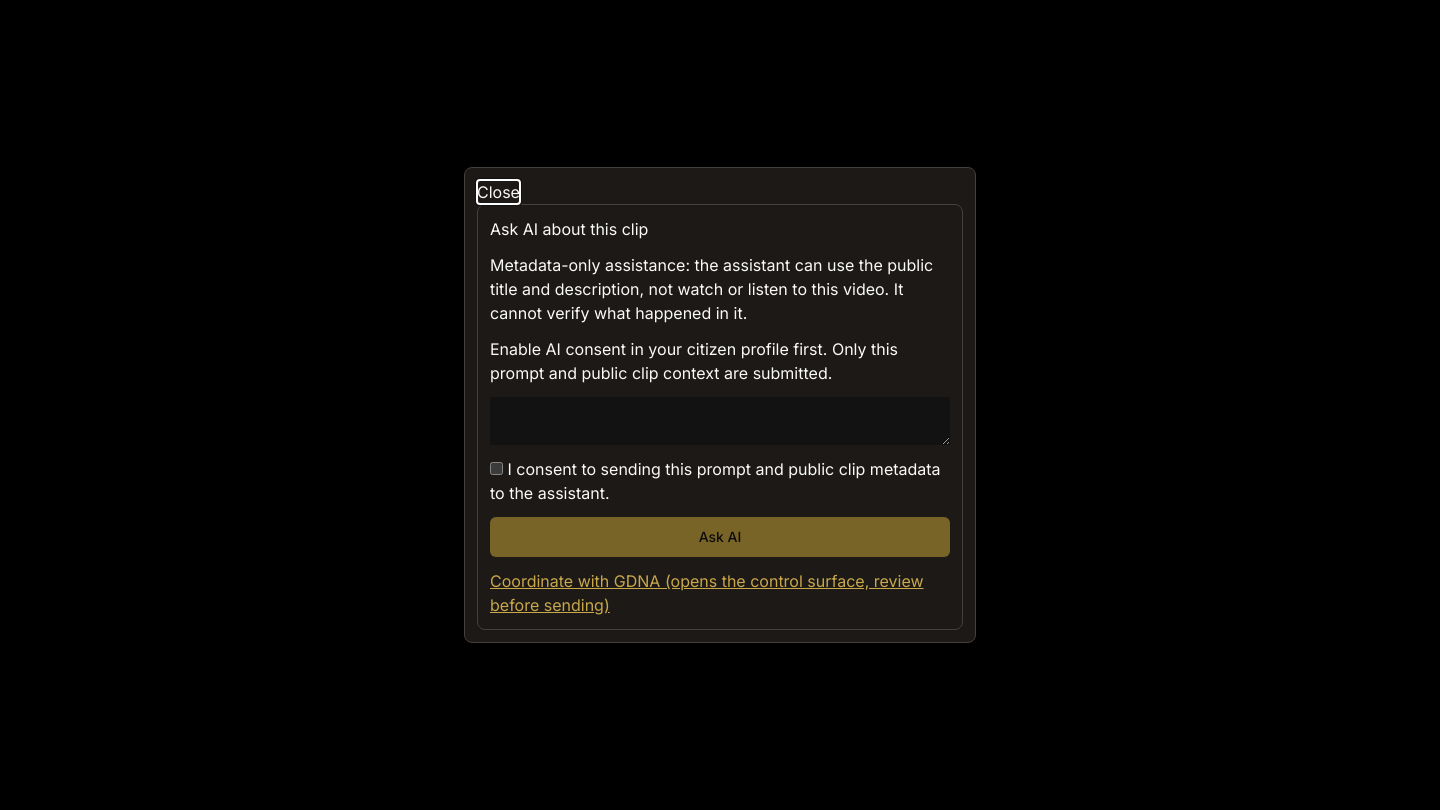
Test: lazy clip citizen panel › requires explicit prompt and consent and sends only scoped clip context
expect the button with test id "clip-ai-submit" is disabled: met, box left=490, top=517, right=950, bottom=557
Type "What does the title say?" into the text box with test id "clip-ai-prompt". click: (720, 421)
box: left=490, top=397, right=950, bottom=445
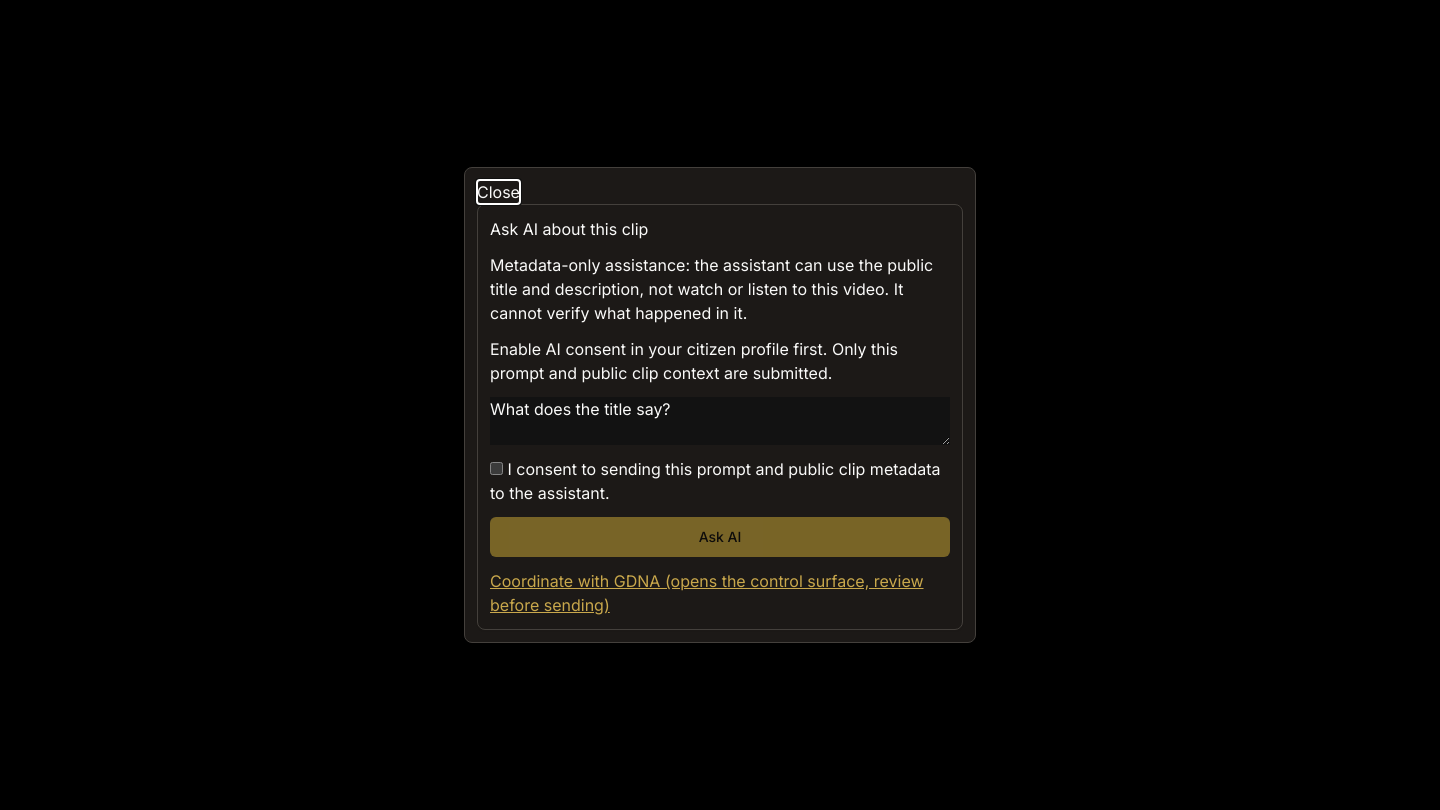
expect the button with test id "clip-ai-submit" is disabled: met, box left=490, top=517, right=950, bottom=557
Click the checkbox with test id "clip-ai-consent". click: (496, 468)
box: left=490, top=462, right=503, bottom=475
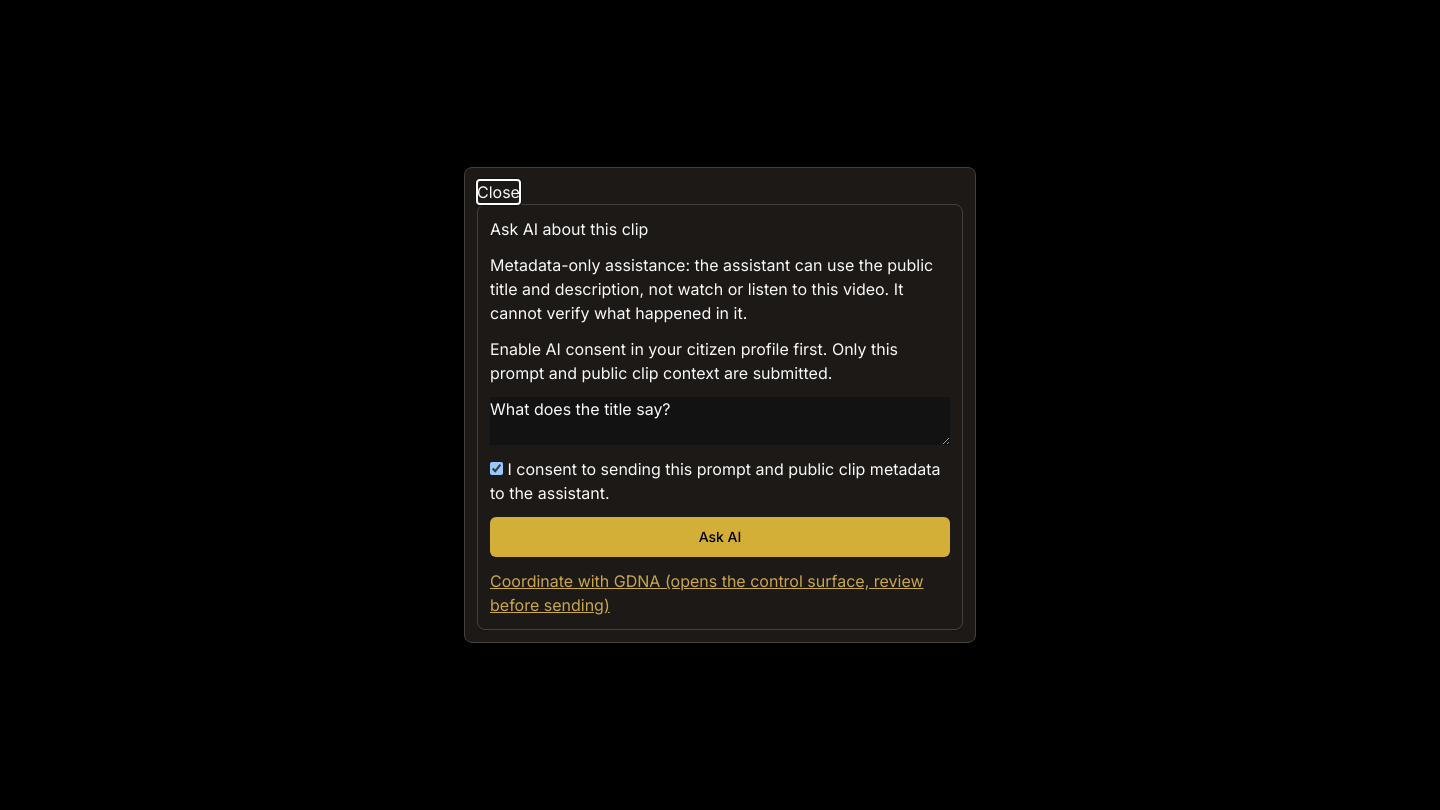
expect the button with test id "clip-ai-submit" is enabled: met
Click the button with test id "clip-ai-submit". click: (720, 537)
box: left=490, top=517, right=950, bottom=557
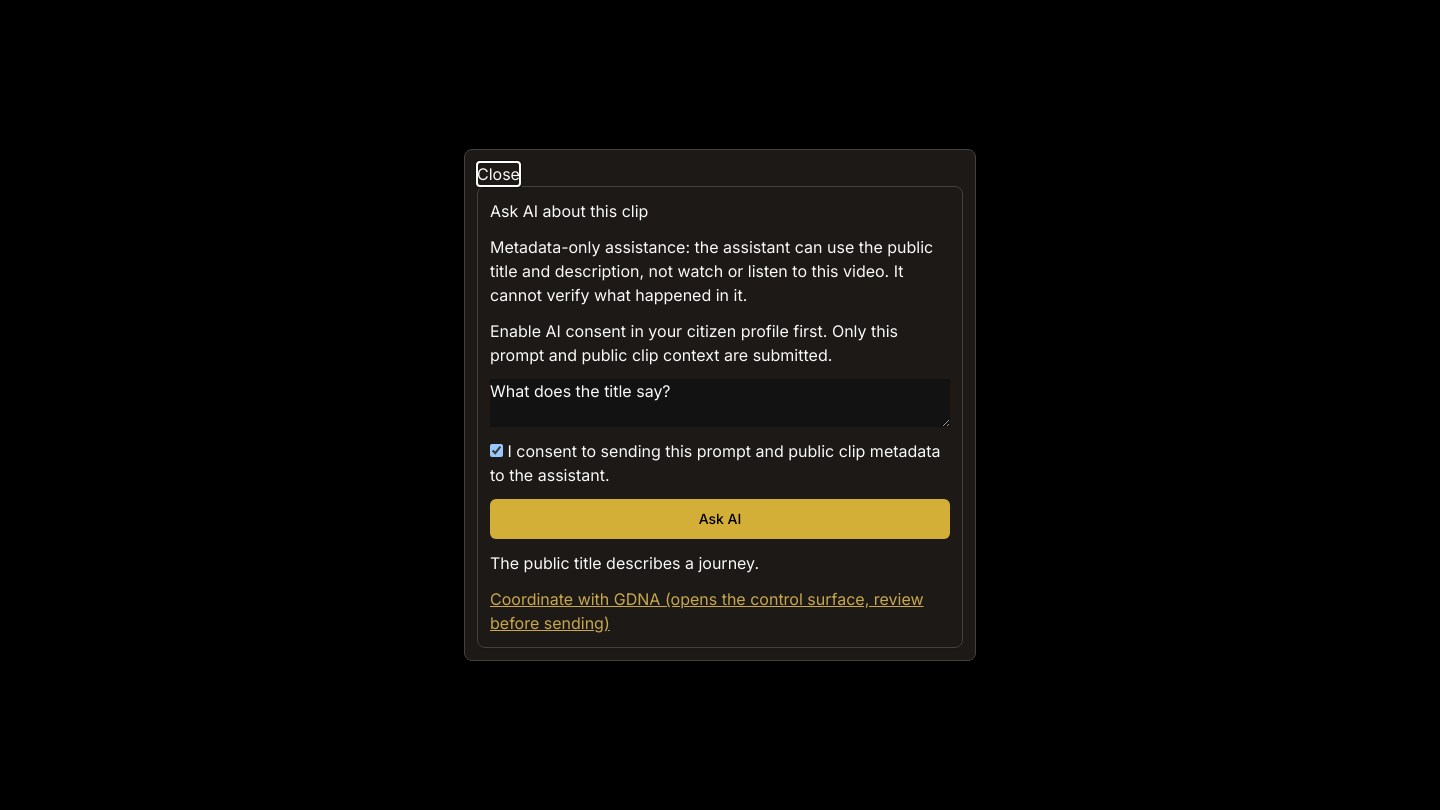
expect the text "The public title describes a journey." is shown: met, box left=490, top=553, right=759, bottom=573
